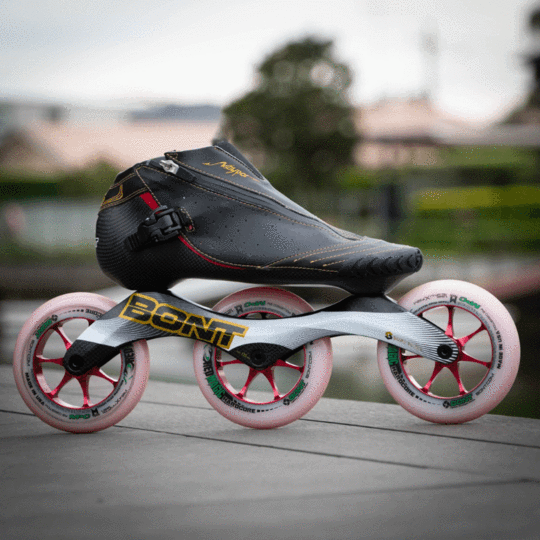roller_blade: (49, 157, 502, 417)
